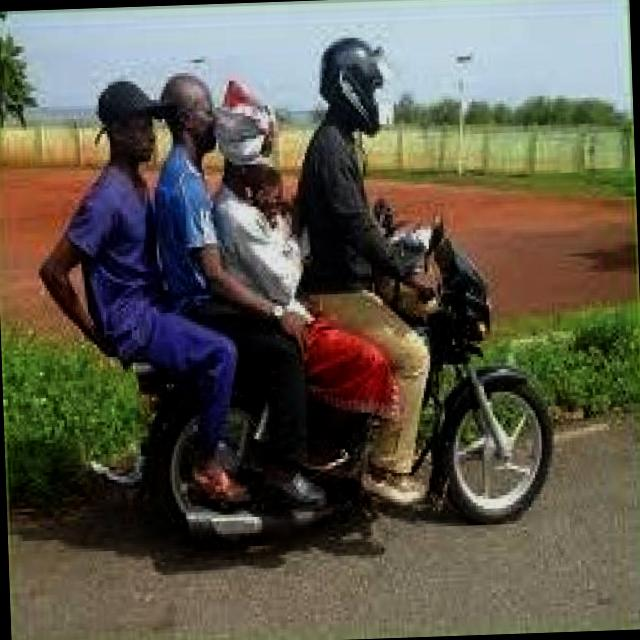motorcycle: (118, 206, 560, 564)
person: (289, 23, 424, 390), (31, 71, 176, 406), (146, 68, 255, 402), (206, 81, 300, 403)
rider_region: (41, 22, 553, 556)
